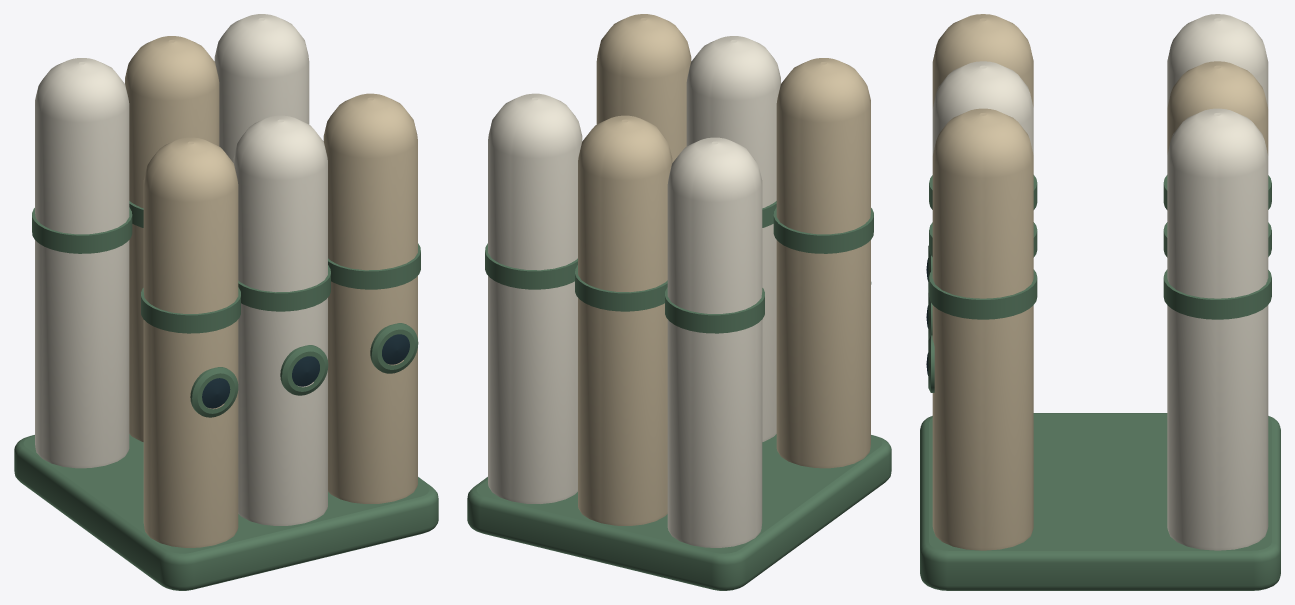
The model's file is t200_scrubber.obj.
3 renders of one model, left to right at view 1: azimuth 30°, elevation 25°; view 2: azimuth 150°, elevation 25°; view 3: azimuth 270°, elevation 25°, orthographic. The views are drawn at different scales.
Visible parts, largest first — view 1: t200_scrubber; view 2: t200_scrubber; view 3: t200_scrubber.
Part boxes in pixels (bbox=[...]): t200_scrubber: bbox=[14, 14, 438, 590]; t200_scrubber: bbox=[467, 14, 891, 590]; t200_scrubber: bbox=[920, 14, 1280, 590].
Size of the model in its own units: 1.9 by 2.78 by 2.
